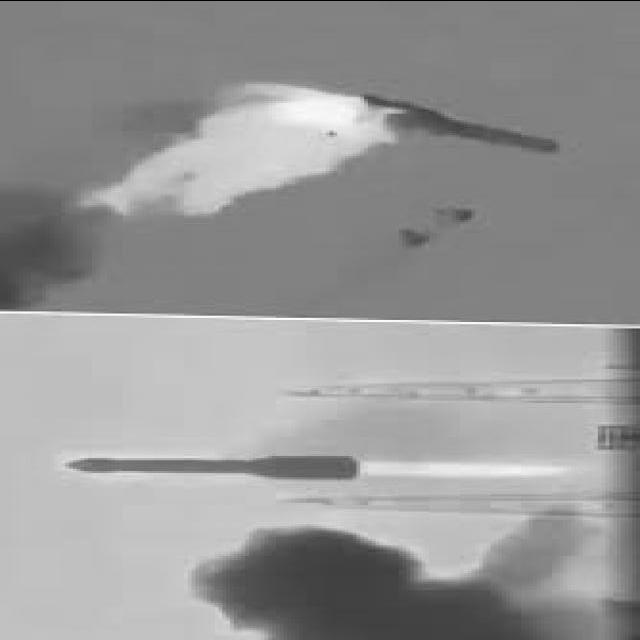missile: (390, 103, 575, 163), (61, 450, 362, 482)
